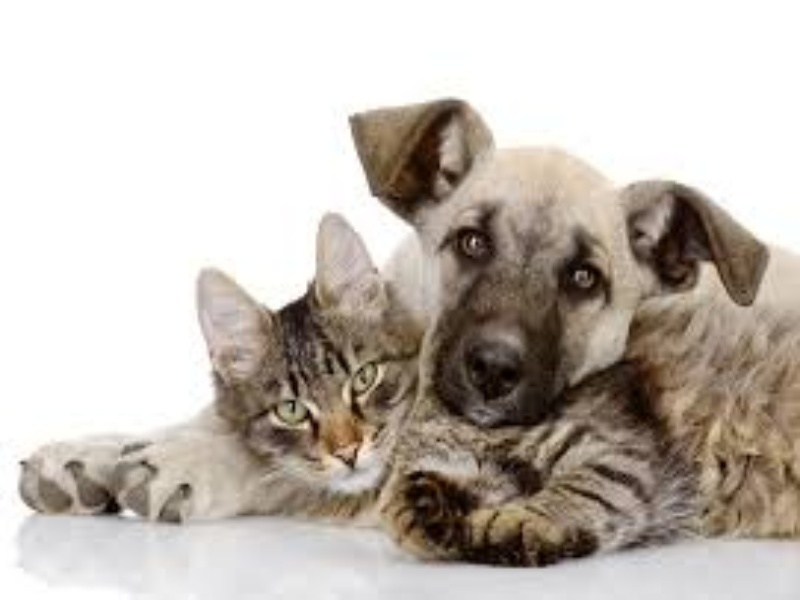dog: (346, 85, 762, 422)
